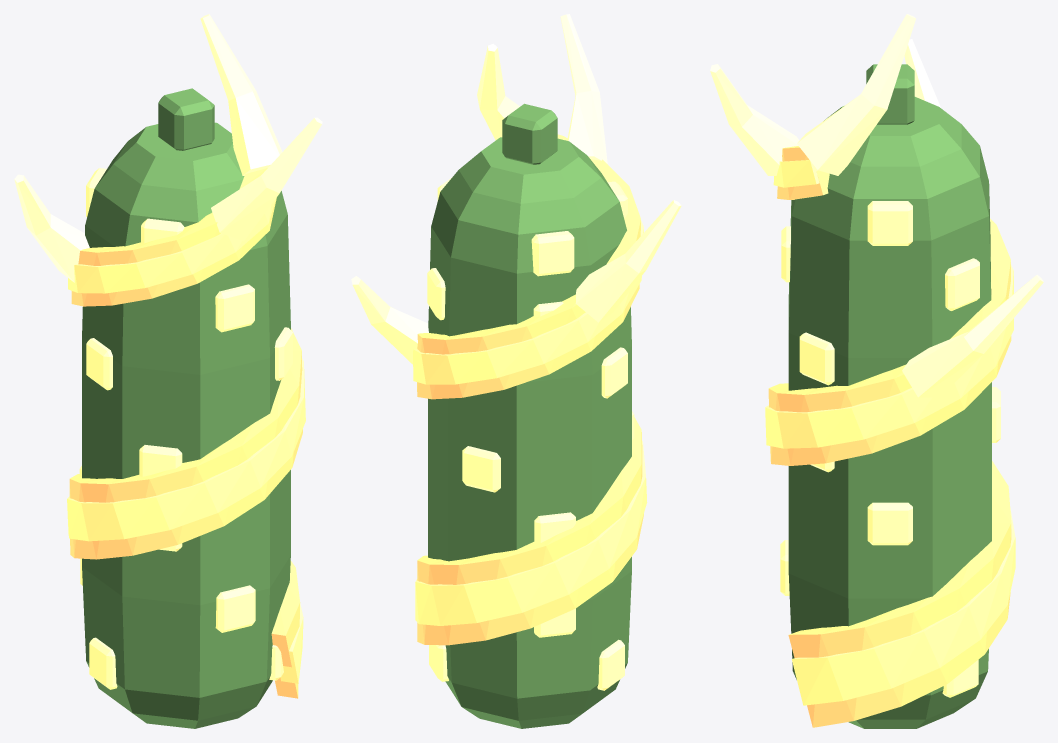
Rendered from VolcanoFlameCucumber.fbx.
The picture shows the model from 3 angles, left to right: view 1: azimuth 30°, elevation 25°; view 2: azimuth 150°, elevation 25°; view 3: azimuth 270°, elevation 25°; orthographic projection. The views are drawn at different scales.
Visible parts, largest first — view 1: VolcanoFlameCucumber.Body, VolcanoFlameCucumber.FlameRibbon, VolcanoFlameCucumber.FlameCore, VolcanoFlameCucumber.FlameLicks, VolcanoFlameCucumber.Studs; view 2: VolcanoFlameCucumber.Body, VolcanoFlameCucumber.FlameRibbon, VolcanoFlameCucumber.FlameCore, VolcanoFlameCucumber.FlameLicks, VolcanoFlameCucumber.Studs; view 3: VolcanoFlameCucumber.Body, VolcanoFlameCucumber.FlameRibbon, VolcanoFlameCucumber.FlameCore, VolcanoFlameCucumber.FlameLicks, VolcanoFlameCucumber.Studs.
Boxes of the visible parts, x1,y1,x2,y2 form: VolcanoFlameCucumber.Body: (82,88,290,728); VolcanoFlameCucumber.FlameRibbon: (69,168,302,698); VolcanoFlameCucumber.FlameCore: (67,199,305,683); VolcanoFlameCucumber.FlameLicks: (14,14,322,282); VolcanoFlameCucumber.Studs: (79,168,292,689); VolcanoFlameCucumber.Body: (428,103,631,728); VolcanoFlameCucumber.FlameRibbon: (417,134,643,645); VolcanoFlameCucumber.FlameCore: (413,220,647,625); VolcanoFlameCucumber.FlameLicks: (351,14,681,364); VolcanoFlameCucumber.Studs: (427,177,634,690); VolcanoFlameCucumber.Body: (788,64,991,728); VolcanoFlameCucumber.FlameRibbon: (768,146,1011,727); VolcanoFlameCucumber.FlameCore: (765,159,1015,705); VolcanoFlameCucumber.FlameLicks: (710,14,1043,397); VolcanoFlameCucumber.Studs: (780,201,1000,697).
Bounding box in the file's own units: 2.16 × 4.79 × 2.06.
